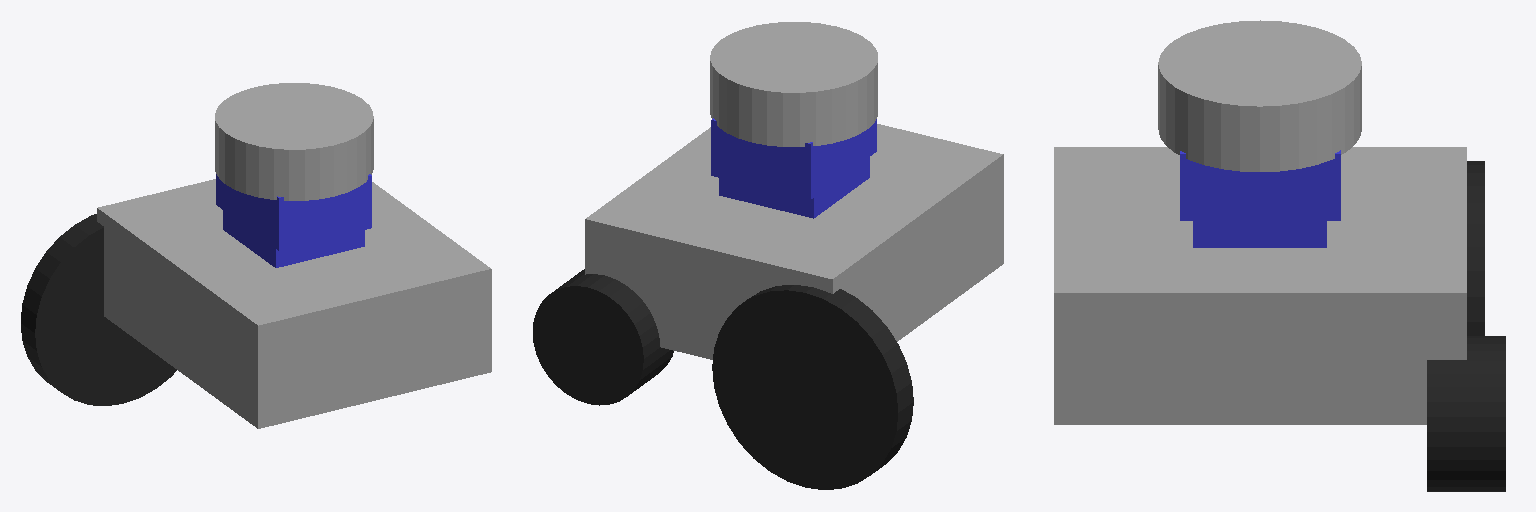
robot.urdf — evolved_robot:
<?xml version="1.0"?>
<robot name="evolved_robot">
  <material name="metal">
    <color rgba="0.7 0.7 0.7 1.0"/>
  </material>
  <material name="plastic">
    <color rgba="0.3 0.3 0.9 1.0"/>
  </material>
  <material name="rubber">
    <color rgba="0.1 0.1 0.1 1.0"/>
  </material>
  <material name="red">
    <color rgba="1.0 0.0 0.0 1.0"/>
  </material>
  <material name="wheel_material">
    <color rgba="0.2 0.2 0.2 1.0"/>
  </material>
  <link name="base_link">
    <visual>
      <geometry><box size="0.25344528067532957 0.3031946513906124 0.10747812692987997"/></geometry>
      <material name="metal"/>
    </visual>
    <collision>
      <geometry><box size="0.25344528067532957 0.3031946513906124 0.10747812692987997"/></geometry>
    </collision>
    <inertial>
      <mass value="5.0"/>
      <inertia ixx="0.08623212033352533" ixy="0" ixz="0" 
               iyy="0.06315504838745997" iyz="0" 
               izz="0.13013458910705966"/>
    </inertial>
  </link>
  <link name="link1">
    <visual>
      <geometry><box size="0.09723084753395027 0.09863412584445662 0.12302757076989841"/></geometry>
      <material name="plastic"/>
    </visual>
    <collision>
      <geometry><box size="0.09723084753395027 0.09863412584445662 0.12302757076989841"/></geometry>
    </collision>
    <inertial>
      <mass value="0.5"/>
      <inertia ixx="0.0020720394958868723" ixy="0" ixz="0" 
               iyy="0.002049135073476054" iyz="0" 
               izz="0.0015985440411058656"/>
    </inertial>
  </link>
  <joint name="joint1" type="fixed">
    <parent link="base_link"/>
    <child link="link1"/>
    <origin xyz="0 0 0.053739063464939986" rpy="0 0 0"/>
    <axis xyz="-0.07941883942348449 0.9590173435173686 0.27198967402737234"/>
    <dynamics damping="0.7561519102187328" friction="0.1"/>
  </joint>
  <link name="link2">
    <visual>
      <geometry><box size="0.10147398415709297 0.11811775112608788 0.05482141343289953"/></geometry>
      <material name="plastic"/>
    </visual>
    <collision>
      <geometry><box size="0.10147398415709297 0.11811775112608788 0.05482141343289953"/></geometry>
    </collision>
    <inertial>
      <mass value="0.5"/>
      <inertia ixx="0.0014130992084887776" ixy="0" ixz="0" 
               iyy="0.0011085297359579042" iyz="0" 
               izz="0.0020207310493165326"/>
    </inertial>
  </link>
  <joint name="joint2" type="revolute">
    <parent link="base_link"/>
    <child link="link2"/>
    <origin xyz="0 0 0.10373906346494" rpy="0 0 0"/>
    <axis xyz="0.6920652441107662 -0.3271467759167495 0.6434443914598849"/>
    <dynamics damping="0.8739585863306533" friction="0.1"/>
    <limit lower="-1.7587900716096077" upper="0.9873321275505671" effort="100" velocity="100"/>
  </joint>
  <link name="link3">
    <visual>
      <geometry>
        <cylinder radius="0.05702772458523453" length="0.05837642313947383"/>
      </geometry>
      <material name="wheel_material"/>
    </visual>
    <collision>
      <geometry>
        <cylinder radius="0.05702772458523453" length="0.05837642313947383"/>
      </geometry>
    </collision>
    <inertial>
      <mass value="1.0"/>
      <inertia ixx="0.001097024241055582" ixy="0" ixz="0" 
               iyy="0.001097024241055582" iyz="0" 
               izz="0.0016260806856846814"/>
    </inertial>
  </link>
  <joint name="joint3" type="continuous">
    <parent link="base_link"/>
    <child link="link3"/>
    <origin xyz="0.10672264033766478 0.1515973256953062 -0.053739063464939986" rpy="1.5708 0 0"/>
    <axis xyz="0 0 1"/>
    <dynamics damping="0.7441332332709308" friction="0.1"/>
  </joint>
  <link name="link4">
    <visual>
      <geometry>
        <cylinder radius="0.09534330464393713" length="0.027496129010934463"/>
      </geometry>
      <material name="wheel_material"/>
    </visual>
    <collision>
      <geometry>
        <cylinder radius="0.09534330464393713" length="0.027496129010934463"/>
      </geometry>
    </collision>
    <inertial>
      <mass value="1.0"/>
      <inertia ixx="0.00233558952765548" ixy="0" ixz="0" 
               iyy="0.00233558952765548" iyz="0" 
               izz="0.004545172870213302"/>
    </inertial>
  </link>
  <joint name="joint4" type="continuous">
    <parent link="base_link"/>
    <child link="link4"/>
    <origin xyz="-0.10672264033766478 0.1515973256953062 -0.053739063464939986" rpy="1.5708 0 0"/>
    <axis xyz="0 0 1"/>
    <dynamics damping="0.2445065955267381" friction="0.1"/>
  </joint>
  <link name="link5">
    <visual>
      <geometry><cylinder radius="0.07482636061168667" length="0.053276958313873427"/></geometry>
      <material name="metal"/>
    </visual>
    <collision>
      <geometry><cylinder radius="0.07482636061168667" length="0.053276958313873427"/></geometry>
    </collision>
    <inertial>
      <mass value="0.5"/>
      <inertia ixx="0.0016362822511957274" ixy="0" ixz="0" 
               iyy="0.0016362822511957274" iyz="0" 
               izz="0.002799492121195087"/>
    </inertial>
  </link>
  <joint name="joint5" type="revolute">
    <parent link="base_link"/>
    <child link="link5"/>
    <origin xyz="0 0 0.15373906346493998" rpy="0 0 0"/>
    <axis xyz="-0.877079588087272 -0.2393748705653685 0.4164505582929076"/>
    <dynamics damping="0.36360014671520124" friction="0.1"/>
    <limit lower="-1.2283916071397314" upper="1.0594762417049612" effort="100" velocity="100"/>
  </joint>
</robot>

--- What the picture shows (computed from the rendered views, not written in the file) ---
The picture shows the robot from 3 angles, left to right: view 1: azimuth 30°, elevation 25°; view 2: azimuth 150°, elevation 25°; view 3: azimuth 270°, elevation 25°; orthographic projection.
Model evolved_robot with 6 links and 5 joints (2 revolute, 2 continuous, 1 fixed), rooted at base_link, posed all joints at 0.
Links seen in each view (by area): view 1: base_link, link5, link4, link2, link1; view 2: base_link, link4, link5, link3, link2, link1; view 3: base_link, link5, link3, link2, link1, link4.
Link boxes in pixels (x1,y1,x2,y2): base_link: [97, 179, 491, 428]; link5: [215, 83, 373, 200]; link4: [21, 214, 176, 405]; link2: [216, 174, 371, 250]; link1: [223, 210, 364, 267]; base_link: [585, 124, 1003, 359]; link4: [712, 285, 913, 489]; link5: [710, 22, 877, 146]; link3: [533, 269, 673, 405]; link2: [711, 118, 876, 199]; link1: [719, 157, 869, 218]; base_link: [1054, 147, 1466, 424]; link5: [1158, 20, 1361, 171]; link3: [1427, 336, 1505, 491]; link2: [1180, 150, 1340, 220]; link1: [1193, 221, 1326, 247]; link4: [1467, 161, 1484, 335].
Size in the robot's own frame: 0.3658 by 0.3324 by 0.3295 metres.
Geometry: primitives only (box / cylinder / sphere), no mesh files.